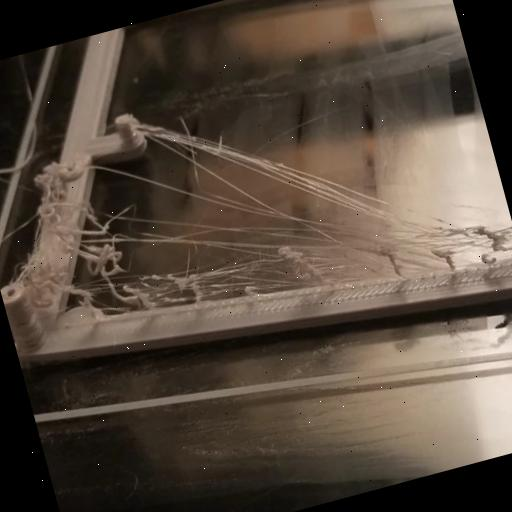stringing: (48, 115, 324, 339), (319, 191, 512, 315)
